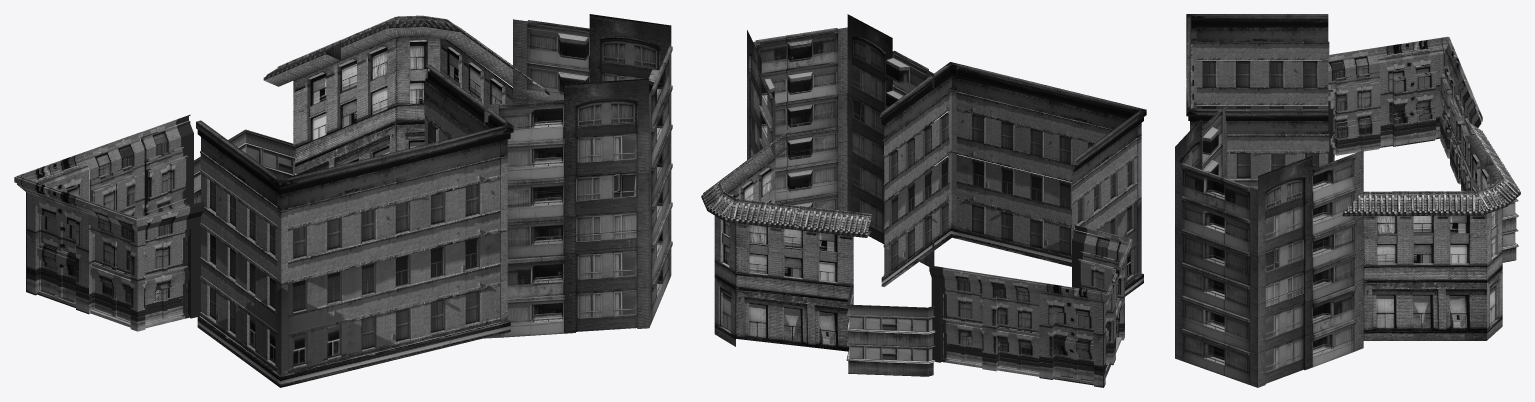
The model's file is chinatown_block_1.fbx.
The picture shows the model from 3 angles, left to right: view 1: azimuth 30°, elevation 25°; view 2: azimuth 150°, elevation 25°; view 3: azimuth 270°, elevation 25°; orthographic projection. The views are drawn at different scales.
Visible parts, largest first — view 1: ruby_palace_building, chinatown_building_1, chinatown_building_4, chinatown_building_2, chinatown_building_3; view 2: ruby_palace_building, chinatown_building_1, chinatown_building_2, chinatown_building_4, chinatown_building_3; view 3: chinatown_building_1, chinatown_building_2, ruby_palace_building, chinatown_building_4, chinatown_building_3.
Boxes of the visible parts, x1,y1,x2,y2 form: ruby_palace_building: (196, 64, 513, 387); chinatown_building_1: (484, 14, 672, 338); chinatown_building_4: (14, 114, 204, 331); chinatown_building_2: (263, 15, 549, 176); chinatown_building_3: (194, 129, 296, 203); ruby_palace_building: (880, 62, 1146, 296); chinatown_building_1: (747, 14, 934, 266); chinatown_building_2: (701, 130, 871, 351); chinatown_building_4: (929, 225, 1132, 387); chinatown_building_3: (846, 283, 935, 376); chinatown_building_1: (1175, 105, 1363, 387); chinatown_building_2: (1342, 119, 1520, 340); ruby_palace_building: (1186, 14, 1329, 189); chinatown_building_4: (1322, 36, 1482, 191); chinatown_building_3: (1502, 199, 1518, 262).
Size of the model in its own units: 3840 by 1684 by 2490.
